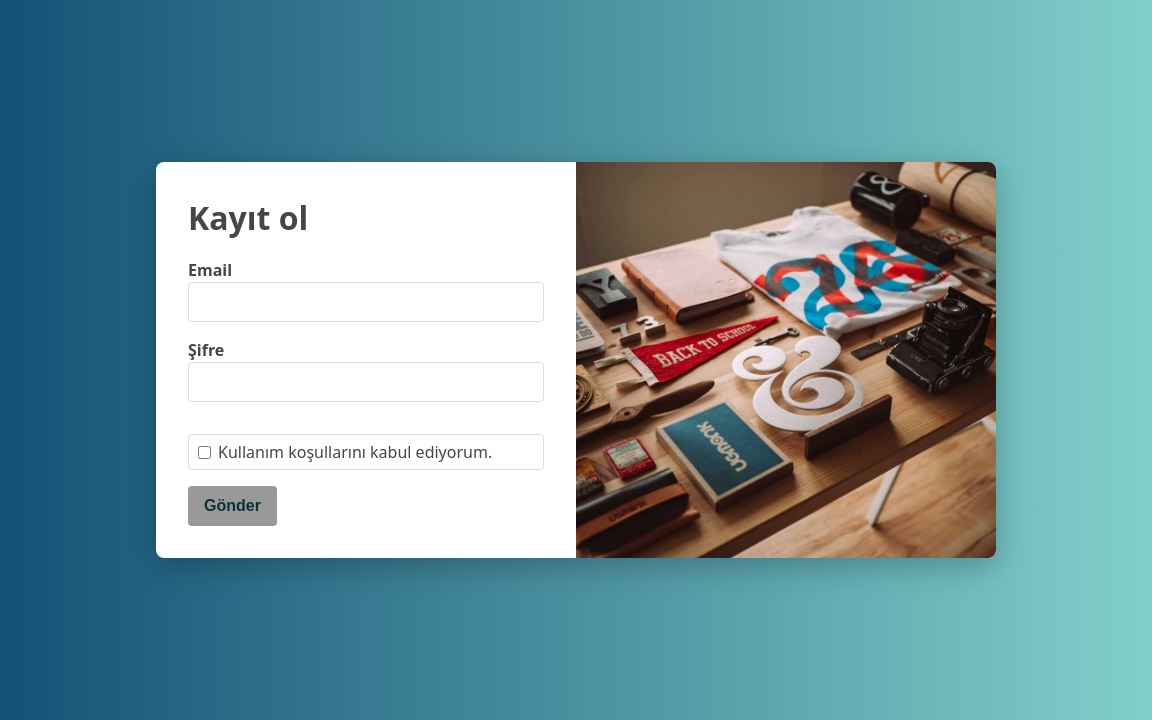
Scenario: Email yanlış doldurulunca hata mesajı görünüyor mu?
Type "omer@co" into the field with test id "email". click: (366, 302)
box: x1=188 y1=282 x2=544 y2=322
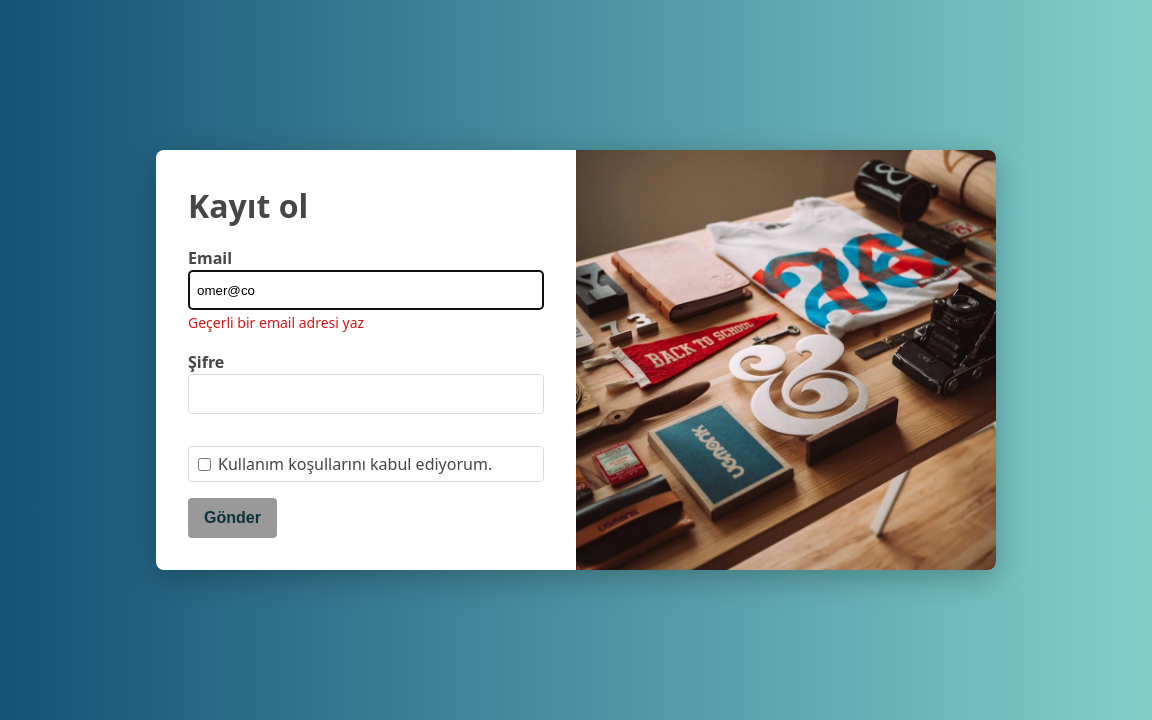
Result: the text "Geçerli bir email adresi yaz" is shown at x1=188 y1=313 x2=364 y2=332
